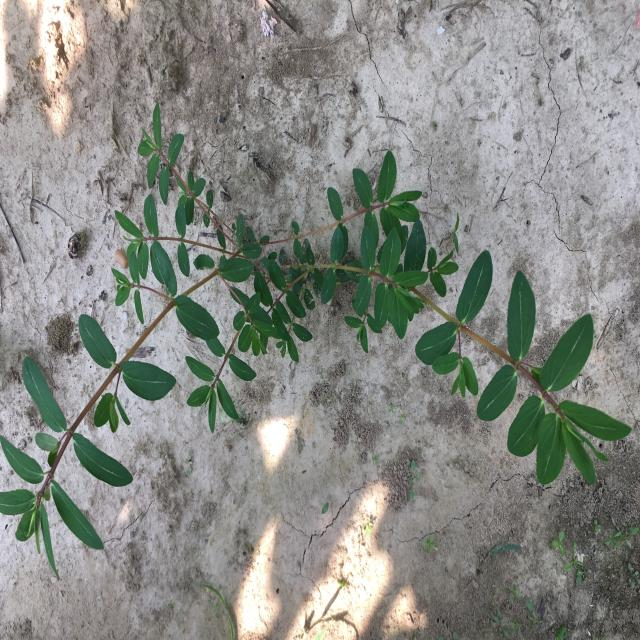SpottedSpurge: (0, 102, 632, 582)
